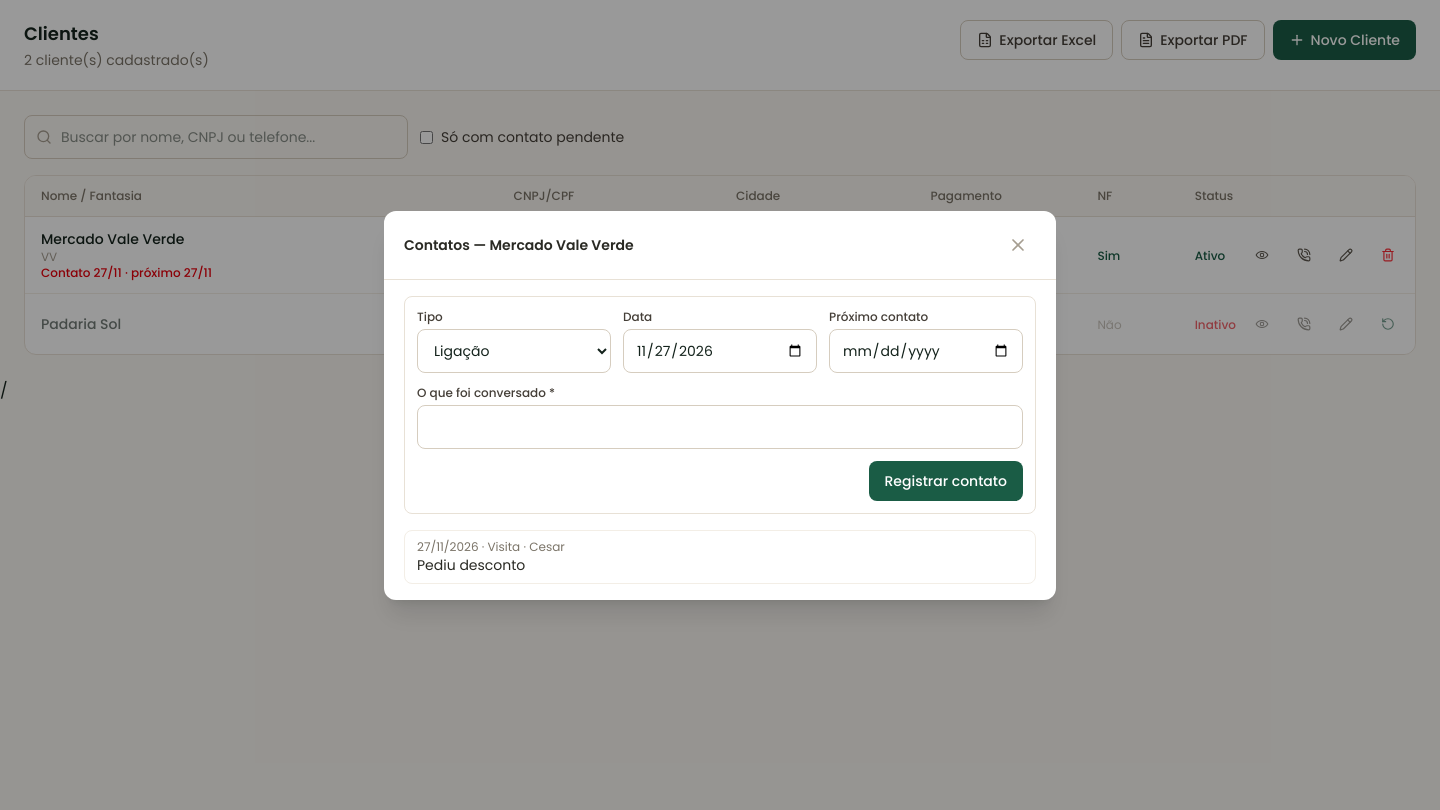
Test: Clientes › excluir, reativar, editar, novo e contatos
Earlier steps of the test are not shown.
Expected: the text "Pediu desconto" is shown, [417, 554, 525, 574]
Click the button named "Fechar" at (1018,244), box [1000, 226, 1036, 262]
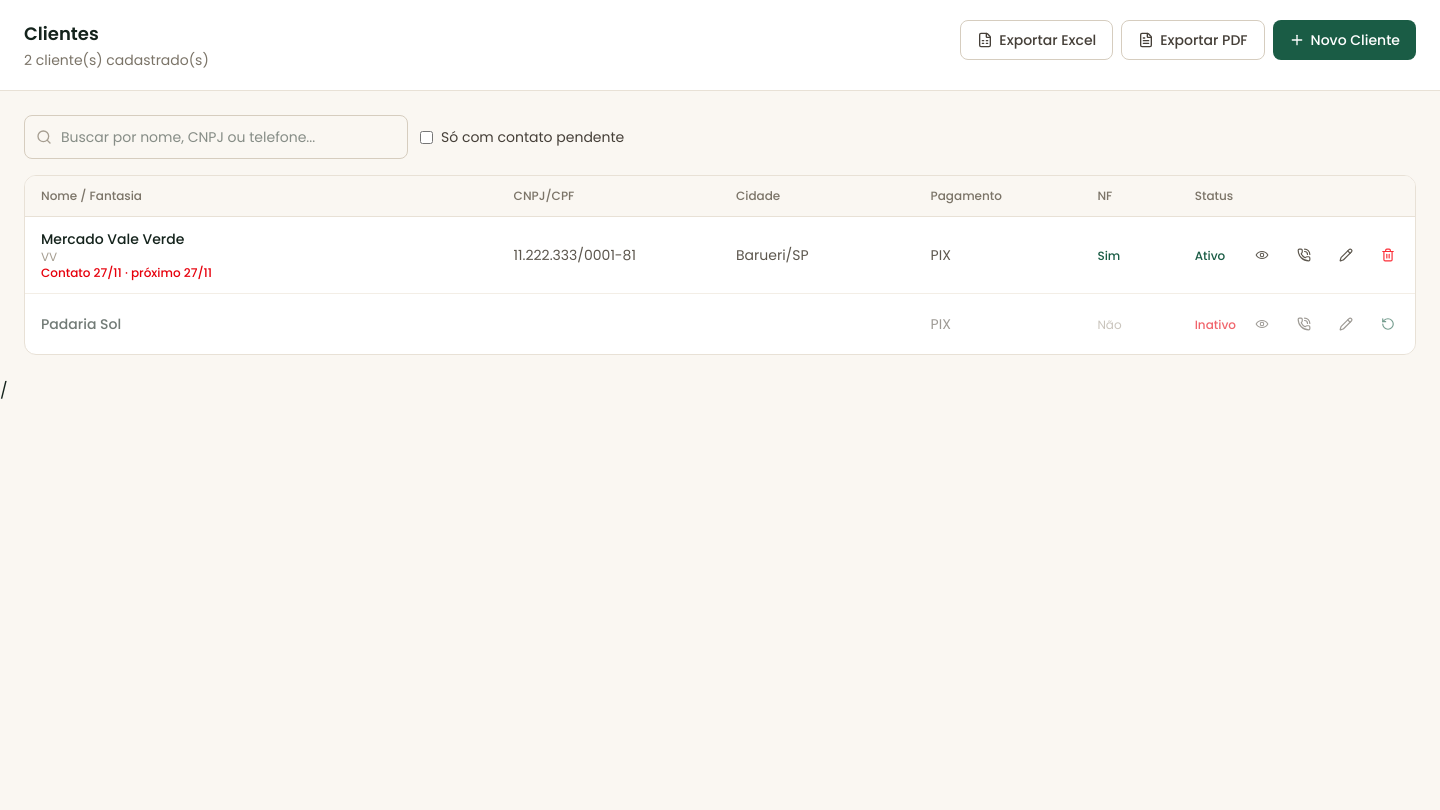
Result: the heading "Contatos —" is gone
